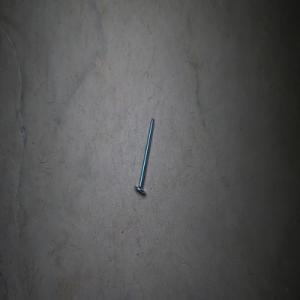Bolt: (133, 117, 154, 194)
